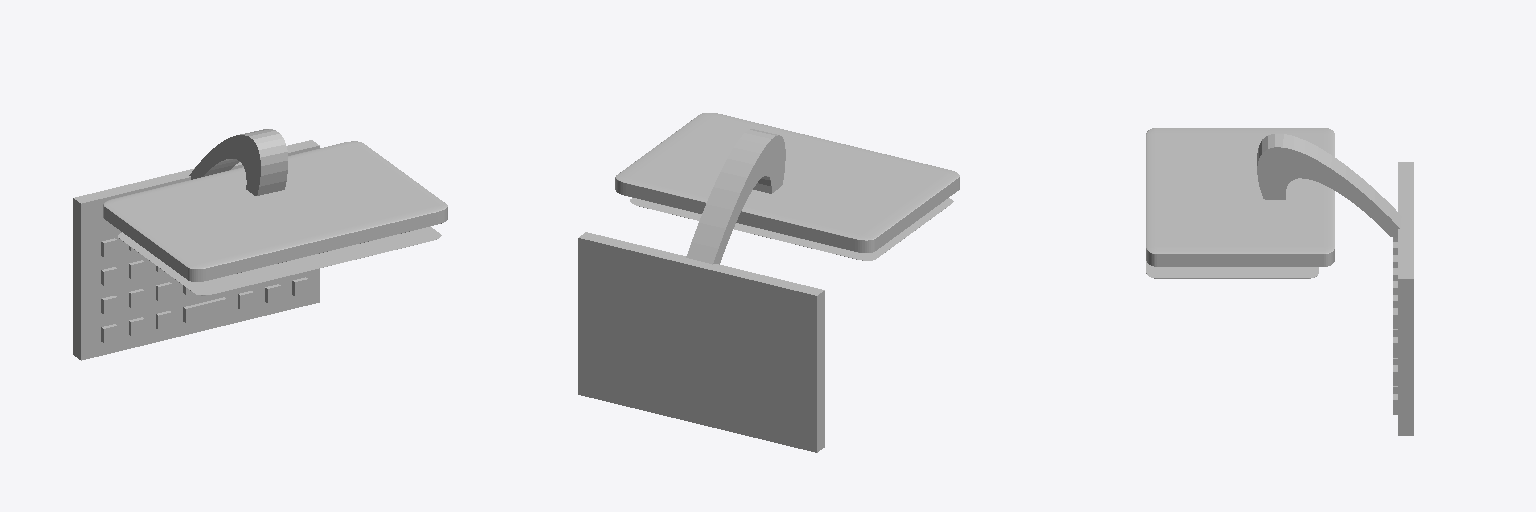
The model's file is jugador1.obj.
3 renders of one model, left to right at view 1: azimuth 30°, elevation 25°; view 2: azimuth 150°, elevation 25°; view 3: azimuth 270°, elevation 25°, orthographic.
Parts seen in each view (by area): view 1: obj_0, obj_1, obj_34, obj_2, obj_31; view 2: obj_1, obj_0, obj_2, obj_34; view 3: obj_0, obj_2, obj_1, obj_34.
Boxes of the visible parts, x1=… form: obj_0: x1=103, y1=141, x2=447, y2=281; obj_1: x1=73, y1=140, x2=319, y2=360; obj_34: x1=118, y1=226, x2=441, y2=295; obj_2: x1=189, y1=129, x2=287, y2=195; obj_31: x1=183, y1=297, x2=226, y2=322; obj_1: x1=578, y1=232, x2=824, y2=452; obj_0: x1=615, y1=113, x2=959, y2=252; obj_2: x1=686, y1=129, x2=785, y2=264; obj_34: x1=630, y1=198, x2=953, y2=260; obj_0: x1=1146, y1=128, x2=1334, y2=266; obj_2: x1=1257, y1=134, x2=1401, y2=238; obj_1: x1=1398, y1=162, x2=1413, y2=435; obj_34: x1=1146, y1=261, x2=1318, y2=278.
Size of the model in its own units: 19 by 16.77 by 17.